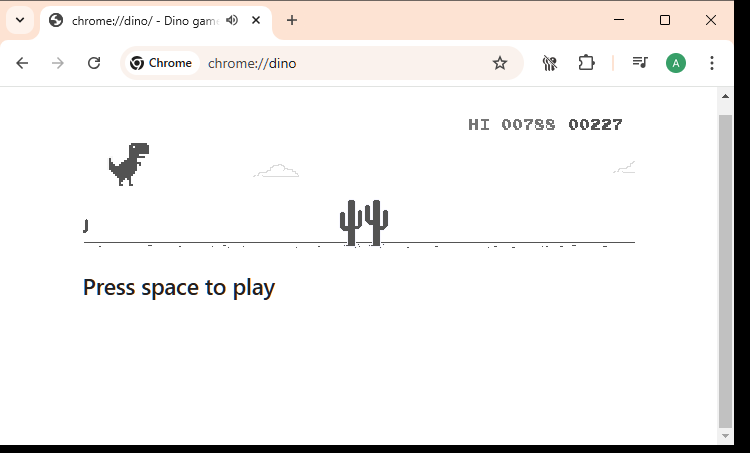cactus: (364, 199, 390, 247), (340, 199, 363, 247)
dino: (108, 142, 150, 188)
